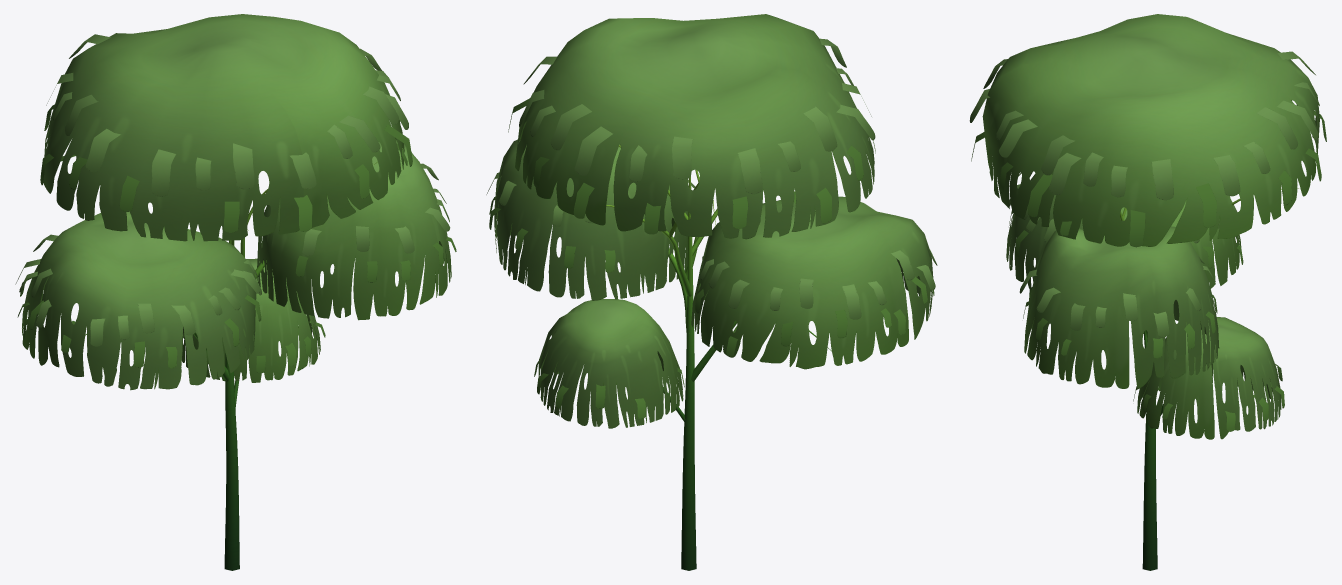
File: Tree1.fbx
3 views of the same model, side by side, from view 1: azimuth 30°, elevation 25°; view 2: azimuth 150°, elevation 25°; view 3: azimuth 270°, elevation 25° (orthographic). The views are drawn at different scales.
Parts seen in each view (by area): view 1: Leaves_Base, Leaf_up, Leaf_down, Trunk1; view 2: Leaves_Base, Leaf_up, Leaf_down, Trunk1; view 3: Leaves_Base, Leaf_up, Leaf_down, Trunk1.
Part boxes in pixels (x1,y1,x2,y2): Leaves_Base: [22, 14, 451, 390]; Leaf_up: [15, 34, 450, 346]; Leaf_down: [17, 104, 456, 373]; Trunk1: [85, 162, 377, 570]; Leaves_Base: [494, 14, 933, 428]; Leaf_up: [486, 38, 937, 319]; Leaf_down: [489, 98, 934, 419]; Trunk1: [606, 145, 831, 570]; Leaves_Base: [982, 14, 1319, 439]; Leaf_up: [969, 51, 1319, 337]; Leaf_down: [971, 111, 1326, 431]; Trunk1: [1120, 188, 1298, 570].
Size of the model in its own units: 551 by 667 by 420.
